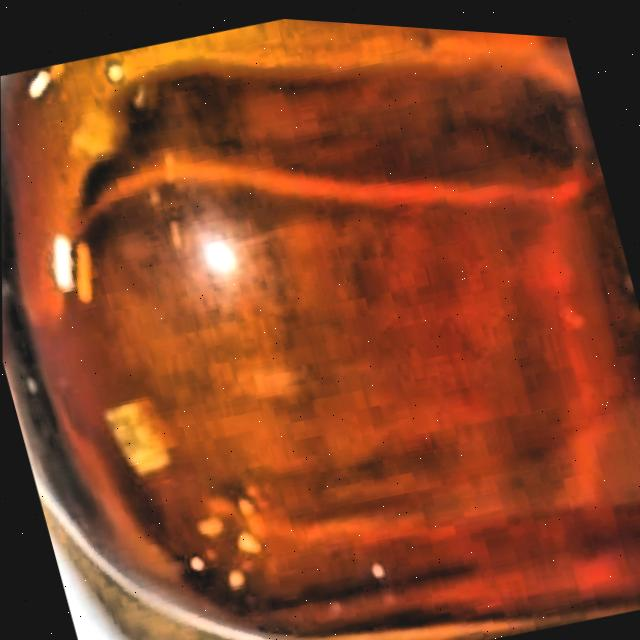glass: (0, 15, 640, 640)
